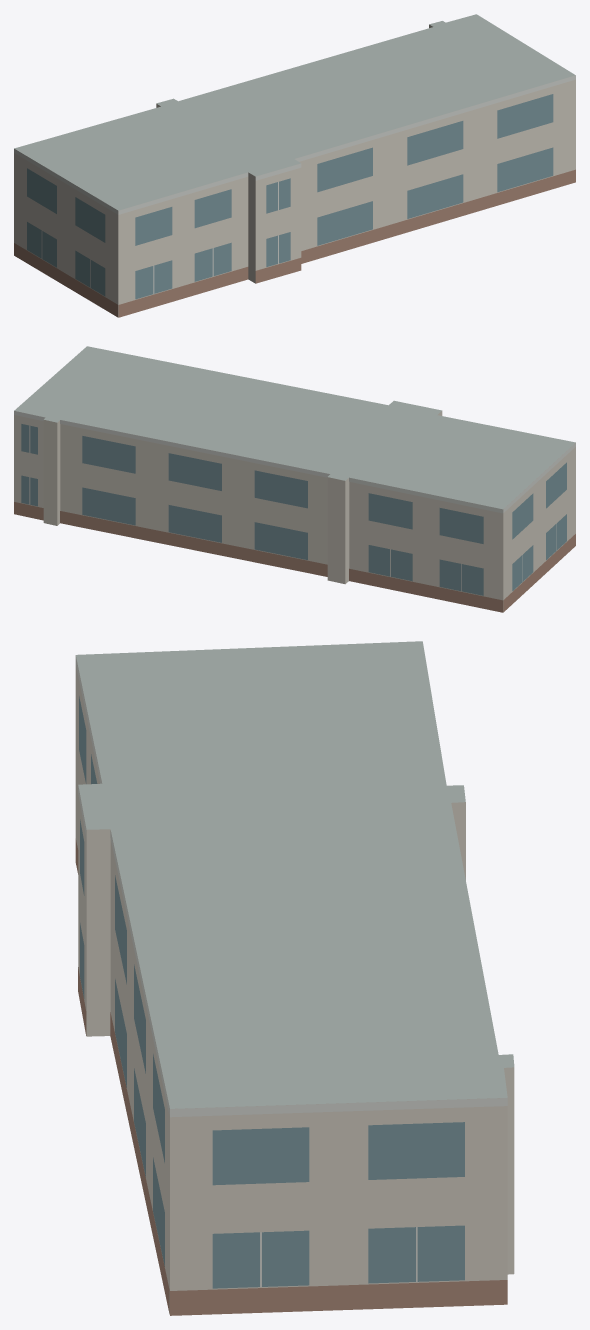
Rendered from survey-upis-32623214.glb.
The picture shows the model from 3 angles, top to bottom: view 1: azimuth 30°, elevation 25°; view 2: azimuth 150°, elevation 25°; view 3: azimuth 270°, elevation 25°; orthographic projection. The views are drawn at different scales.
Parts seen in each view (by area): view 1: survey-upis-32623214.tmp; view 2: survey-upis-32623214.tmp; view 3: survey-upis-32623214.tmp.
Part boxes in pixels (bbox=[...]): survey-upis-32623214.tmp: bbox=[14, 14, 575, 317]; survey-upis-32623214.tmp: bbox=[14, 346, 575, 612]; survey-upis-32623214.tmp: bbox=[75, 641, 514, 1315].
Bounding box in the file's own units: 29.6 × 6.1 × 11.73.
